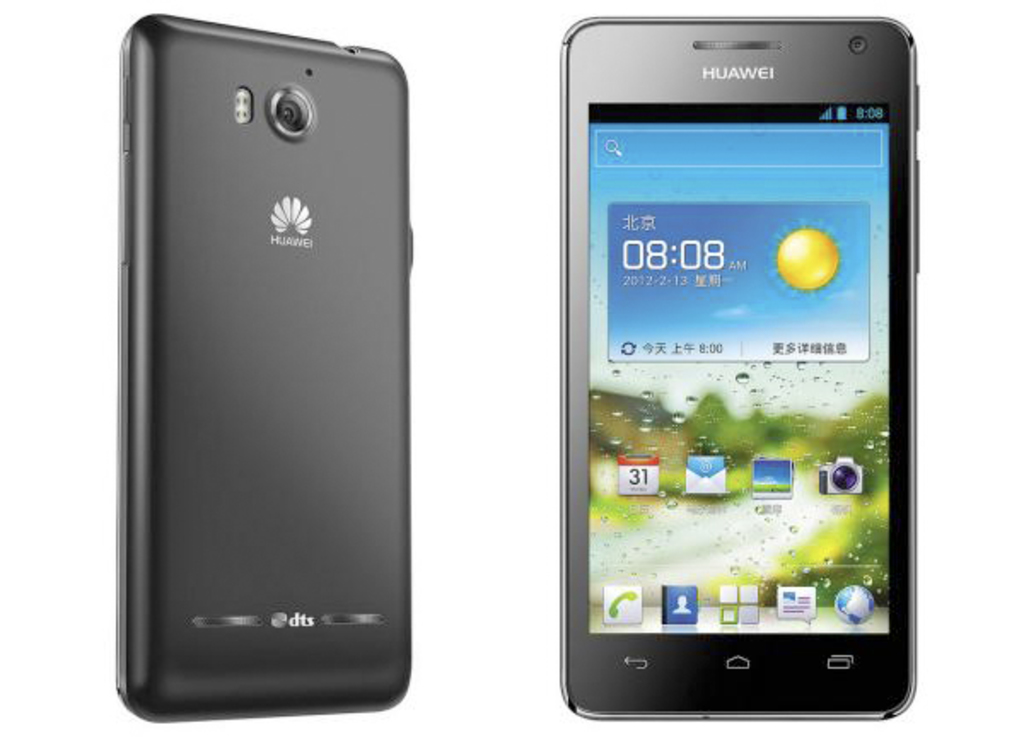mobile phone: (552, 13, 921, 723), (116, 13, 413, 723)
